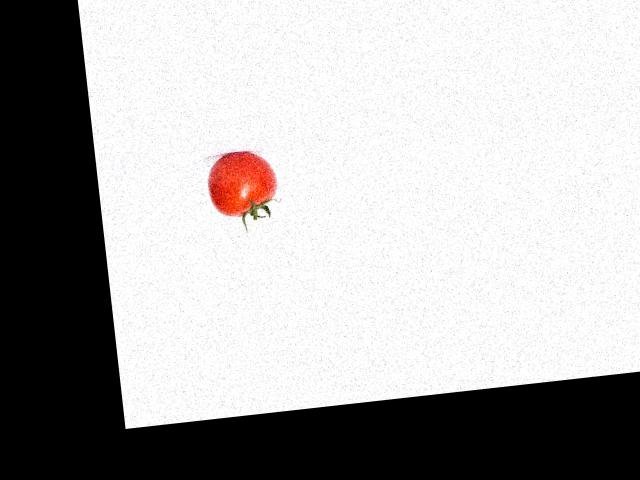tomato: (204, 149, 279, 219)
